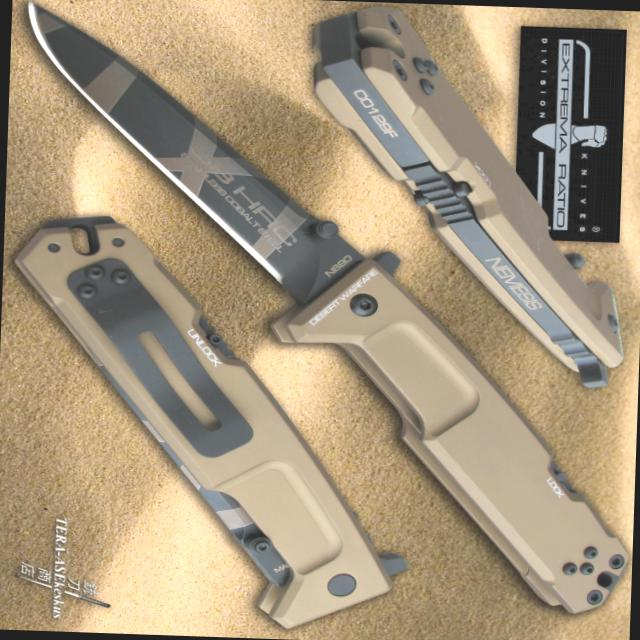knife: (6, 0, 388, 311)
